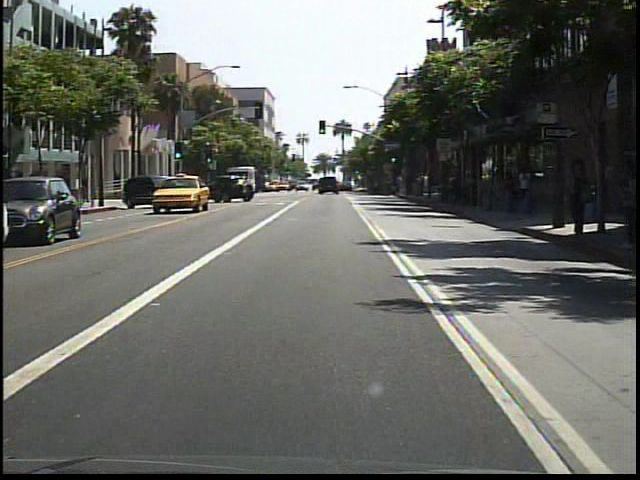person: (561, 155, 593, 242), (609, 163, 638, 246), (515, 165, 535, 213)
